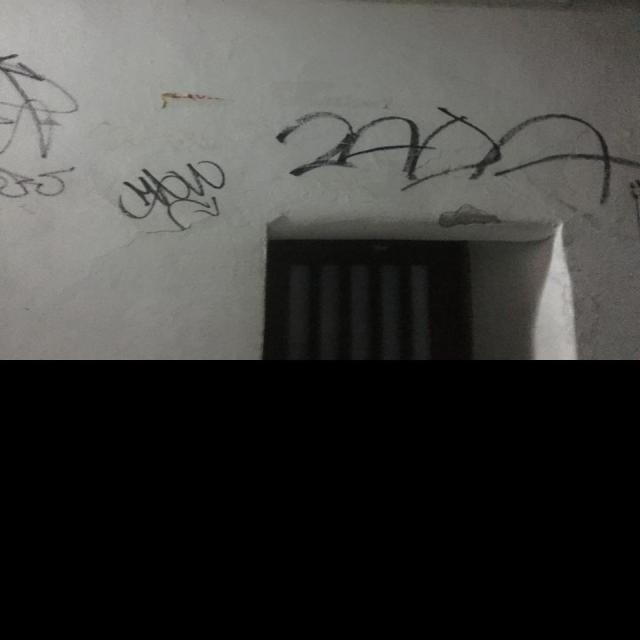nonspitting: (277, 106, 640, 204), (0, 51, 82, 200), (119, 159, 230, 229)
